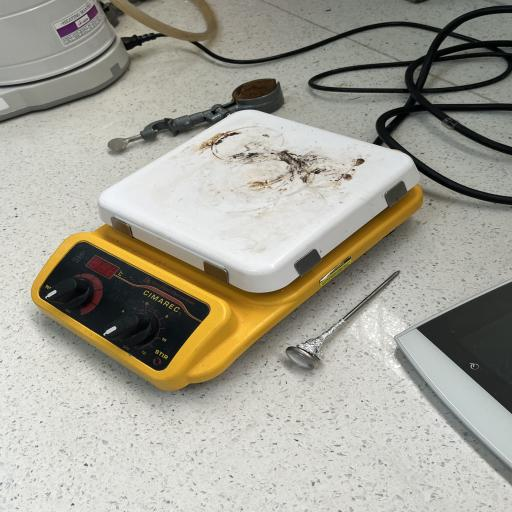Plancha_Agitacion_Cimarec: (21, 107, 434, 401)
